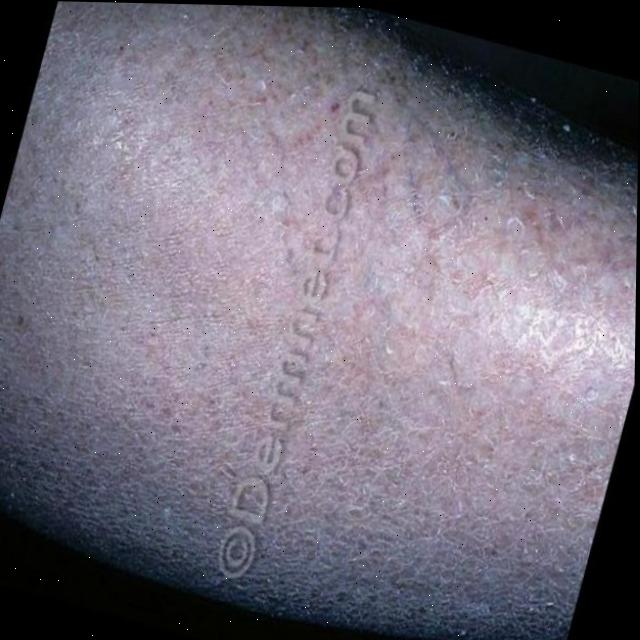Eczema: (17, 36, 625, 603)
